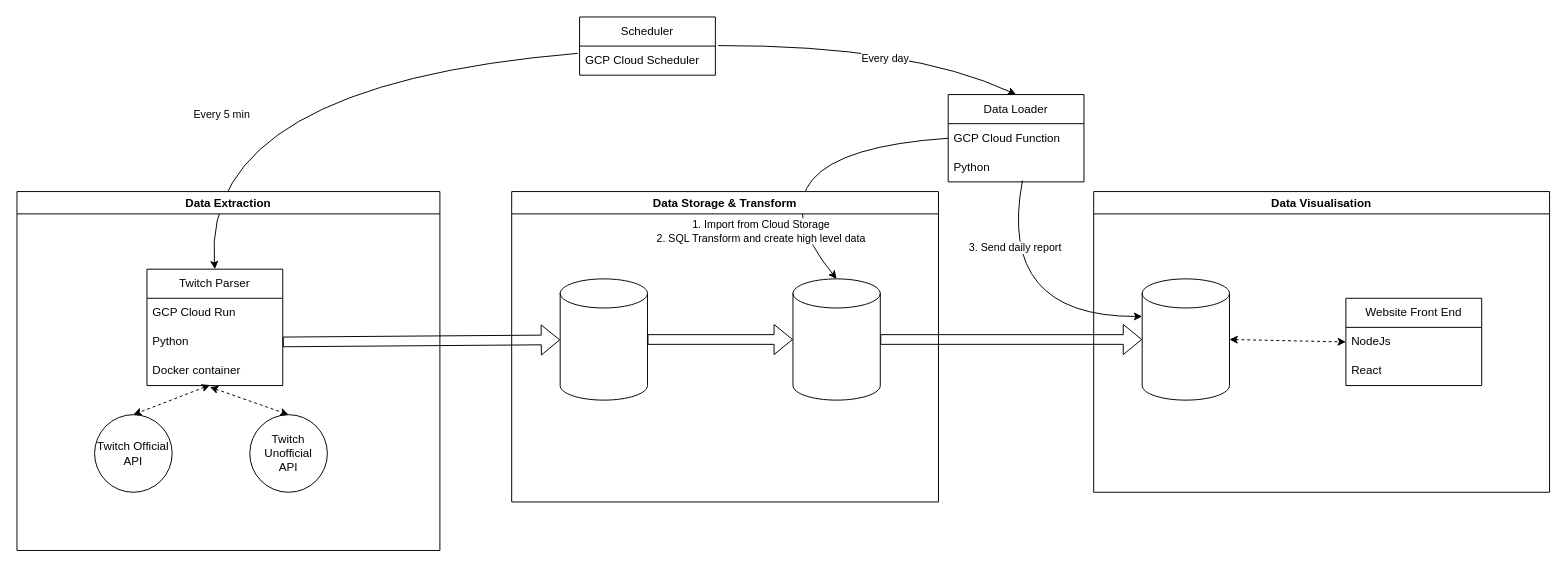
This 1567x567 diagram has some shape labels left out. Here are the shapes that lost their labels. From the top down, the centre of each, then its label:
At (603,339): "GCP Cloud Storage (raw data archive)".
At (836,339): "GCP BigQuery (high level data storage)".
At (1185,339): "Firestore".
